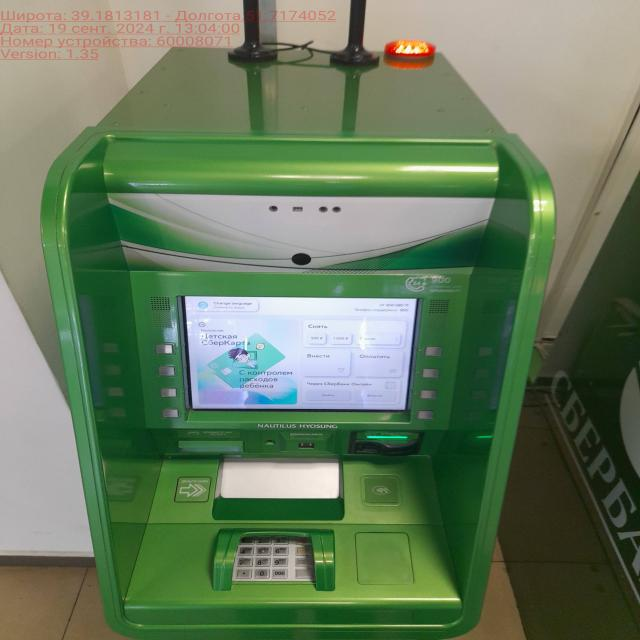bank: (38, 43, 557, 640)
